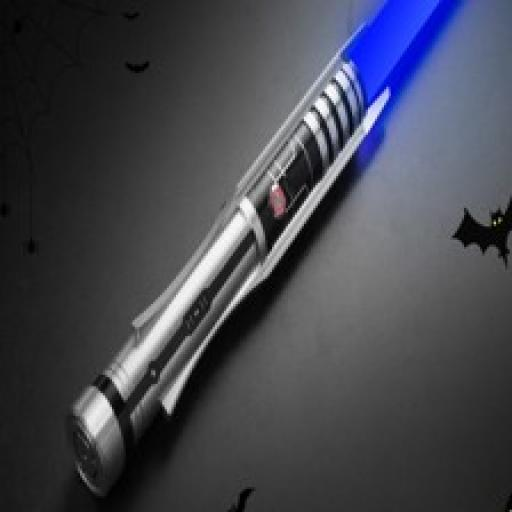lightsaber: (68, 0, 470, 497)
